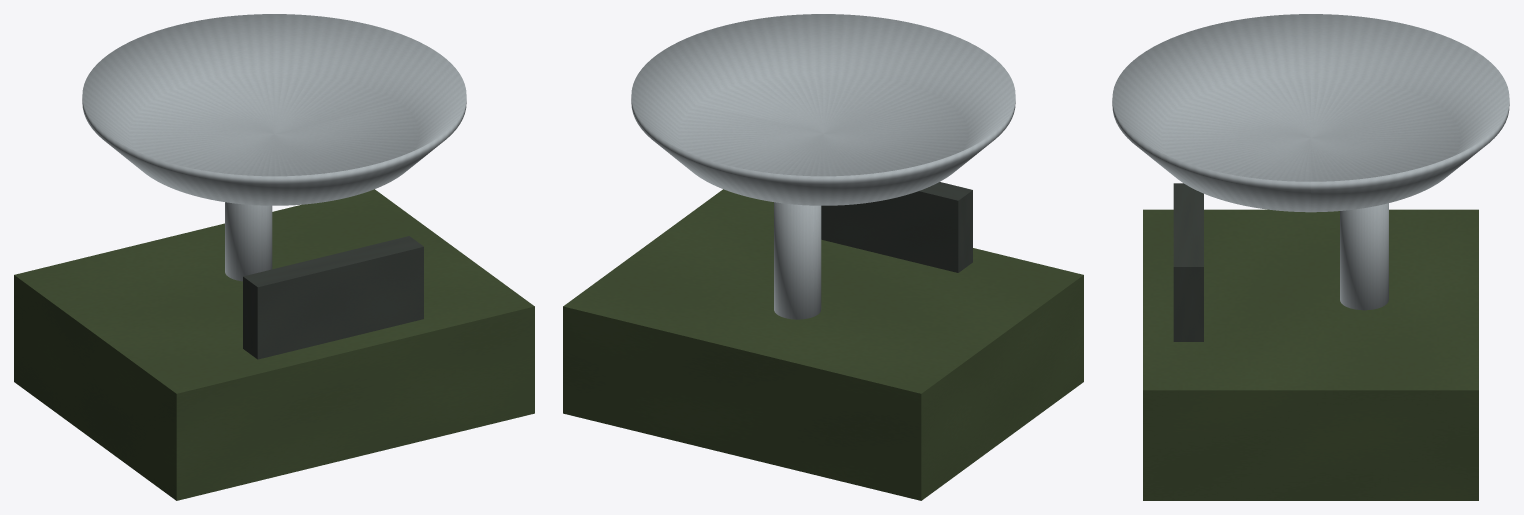
Rendered from scale.glb.
3 renders of one model, left to right at view 1: azimuth 30°, elevation 25°; view 2: azimuth 150°, elevation 25°; view 3: azimuth 270°, elevation 25°, orthographic. The views are drawn at different scales.
Parts seen in each view (by area): view 1: scale base, weigh tray, display frame, scale post; view 2: scale base, weigh tray, display frame, scale post; view 3: scale base, weigh tray, scale post, display frame.
Part boxes in pixels (bbox=[...]): scale base: bbox=[14, 189, 534, 500]; weigh tray: bbox=[82, 14, 466, 205]; display frame: bbox=[243, 236, 423, 359]; scale post: bbox=[225, 202, 272, 281]; scale base: bbox=[563, 189, 1083, 500]; weigh tray: bbox=[631, 14, 1015, 205]; display frame: bbox=[821, 182, 972, 272]; scale post: bbox=[774, 202, 821, 319]; scale base: bbox=[1143, 209, 1478, 500]; weigh tray: bbox=[1112, 14, 1509, 212]; scale post: bbox=[1340, 203, 1388, 310]; display frame: bbox=[1173, 183, 1203, 341].
Size of the model in its own units: 0.28 by 0.226 by 0.26.
3 materials, 3 textured.
